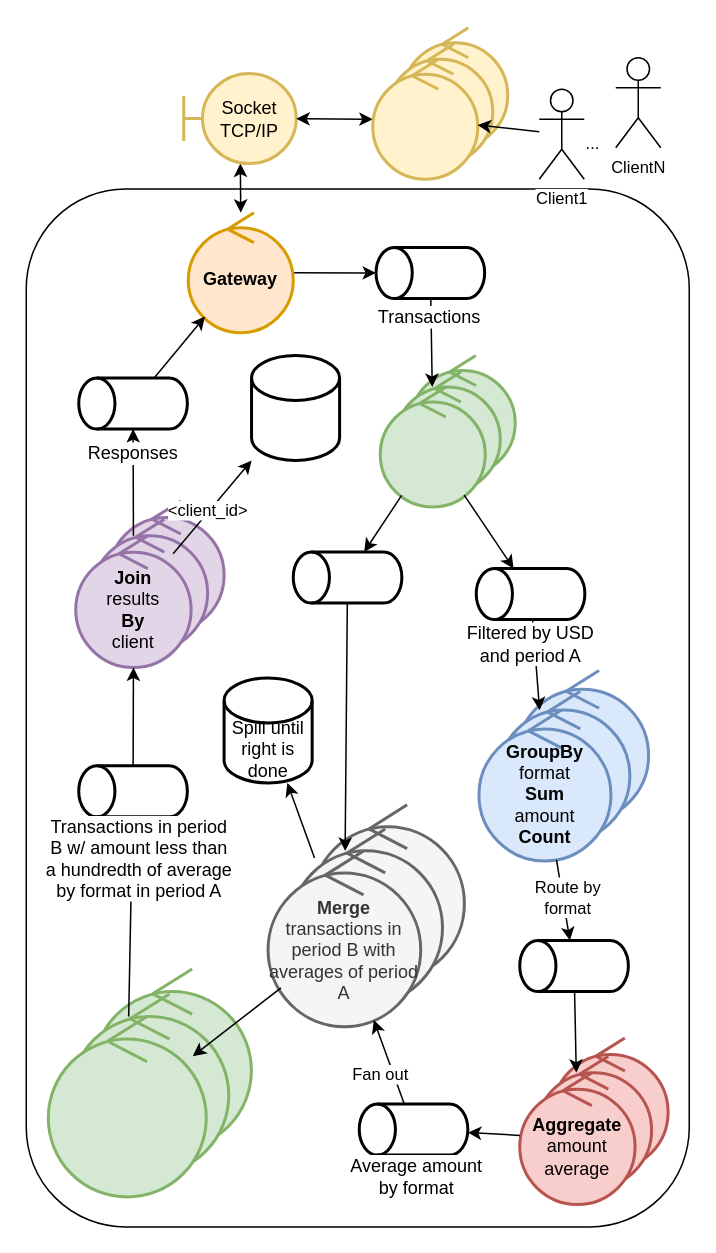
Some shapes in this 716 by 1253 pixel diagram are drawn without their labels. Here are the shapes that lost their labels. From the top down, the centre of each, then its label:
point (424, 118): Client
point (294, 407): Spill and batch send
point (432, 446): Filter
point (347, 577): Filtered by USD and period B
point (573, 965): Sum and count per format
point (126, 1106): Filter transactions By average less than a hudredth of format average
